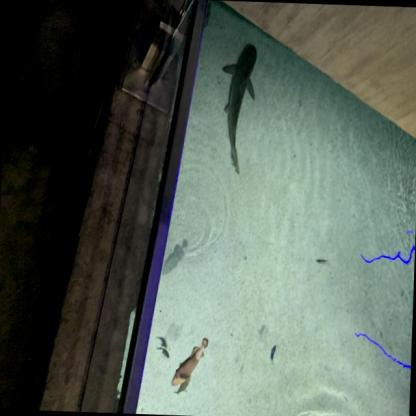fish: (169, 334, 212, 392), (161, 236, 191, 281), (174, 375, 190, 397), (267, 344, 278, 366), (315, 256, 331, 266)
shark: (218, 43, 258, 175)
